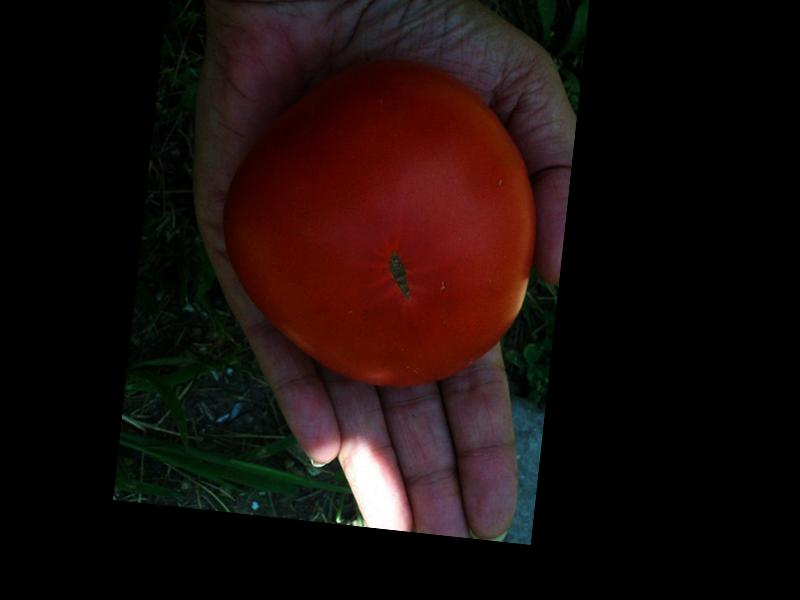Tomato: (207, 47, 552, 399)
